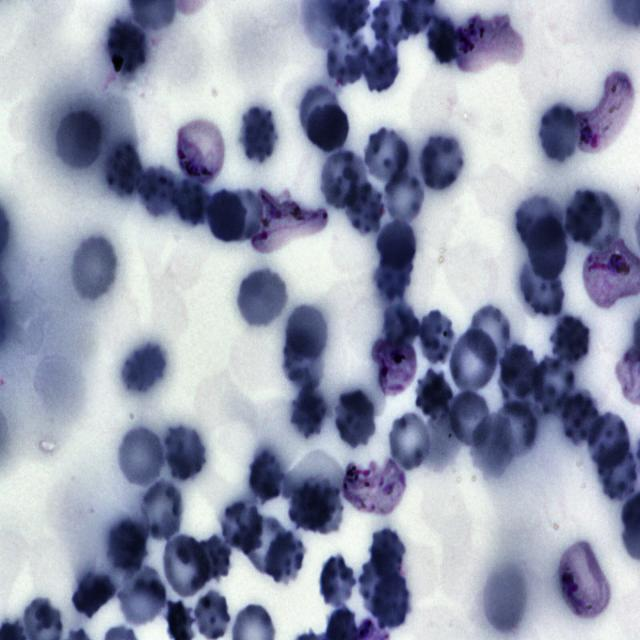red blood cell: (447, 327, 499, 396), (68, 234, 118, 304), (114, 568, 168, 629), (235, 268, 287, 330), (116, 425, 165, 490), (517, 255, 566, 319), (240, 515, 292, 574), (362, 126, 412, 187), (162, 535, 210, 598), (318, 148, 366, 211), (386, 410, 433, 474), (139, 478, 185, 542), (282, 303, 330, 364), (537, 101, 582, 166), (418, 132, 465, 194), (55, 106, 102, 168), (332, 388, 378, 451), (162, 423, 209, 484), (470, 414, 514, 478), (516, 193, 566, 249), (326, 26, 371, 87), (120, 339, 168, 396), (466, 304, 510, 366), (283, 328, 325, 392), (238, 104, 280, 166), (298, 85, 342, 144), (586, 413, 630, 471), (529, 213, 567, 280), (288, 480, 336, 533), (205, 187, 248, 246), (264, 529, 308, 586), (219, 499, 264, 554), (598, 441, 638, 502), (374, 242, 416, 300), (532, 357, 573, 416), (449, 388, 490, 447), (580, 192, 620, 251), (564, 186, 604, 244), (495, 400, 537, 455), (559, 390, 600, 446), (360, 549, 394, 616), (318, 554, 358, 610), (416, 308, 456, 364), (342, 180, 383, 234), (170, 178, 216, 226), (548, 314, 592, 364), (108, 519, 148, 574), (306, 102, 349, 153), (105, 142, 144, 198), (500, 344, 541, 397), (138, 167, 182, 216), (290, 381, 327, 438), (372, 572, 409, 629), (70, 574, 116, 619), (249, 446, 284, 504), (108, 18, 144, 74), (386, 169, 424, 222), (376, 220, 416, 270), (369, 527, 406, 580), (364, 39, 400, 93), (415, 368, 452, 418), (194, 589, 231, 639), (383, 300, 421, 348), (425, 10, 458, 63), (198, 534, 231, 582)
ring: (251, 188, 329, 256), (340, 454, 408, 520)
trophozoite: (573, 69, 636, 152), (557, 537, 610, 619), (583, 235, 640, 309), (454, 13, 524, 72), (174, 116, 226, 184), (370, 338, 420, 396)
